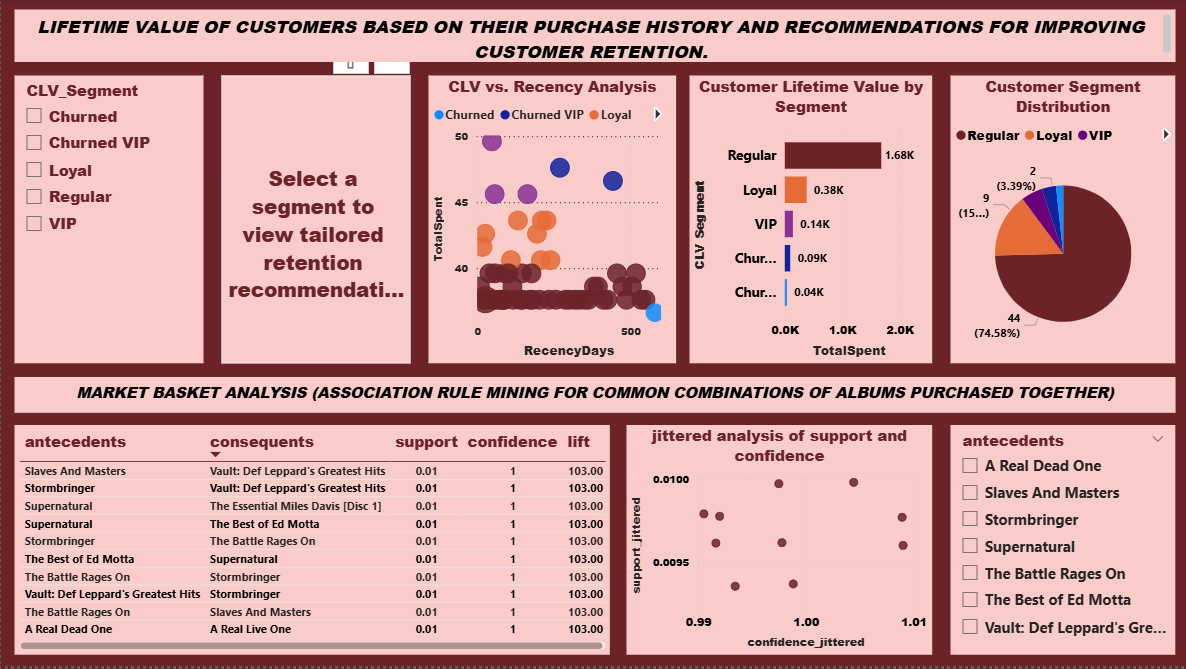

The page's visual inventory and layout, read from the dashboard file:
{"tool":"powerbi","page":{"name":"Page 3","canvas":[1280,720],"ordinal":2},"visuals":[{"type":"card","fields":{"Values":["customer_clv.RetentionRecommendation"]},"box":[238,82.6,204,310.9],"z":0},{"type":"clusteredBarChart","title":"Customer Lifetime Value by Segment","fields":{"Y":["Sum(customer_clv.TotalSpent)"],"Category":["customer_clv.CLV_Segment"]},"box":[743.2,82.6,262.3,310.9],"z":1000},{"type":"scatterChart","title":"CLV vs. Recency Analysis","fields":{"X":["customer_clv.RecencyDays"],"Series":["customer_clv.CLV_Segment"],"Size":["Sum(customer_clv.PurchaseCount)"],"Y":["customer_clv.TotalSpent"]},"box":[461.5,82.6,267.2,310.9],"z":2000},{"type":"pieChart","title":"Customer Segment Distribution","fields":{"Category":["customer_clv.CLV_Segment"],"Y":["CountNonNull(customer_clv.CustomerId)"]},"box":[1025,82.6,242.9,310.9],"z":3000},{"type":"slicer","fields":{"Values":["customer_clv.CLV_Segment"]},"box":[14.6,82.6,204,310.9],"z":4000},{"type":"tableEx","fields":{"Values":["top_10_rules_by_lift.antecedents","top_10_rules_by_lift.consequents","top_10_rules_by_lift.support","top_10_rules_by_lift.confidence","top_10_rules_by_lift.lift"]},"box":[14.6,459.9,642.8,247.7],"z":5000},{"type":"scatterChart","title":"jittered analysis of support and confidence","fields":{"Y":["top_10_rules_by_lift.support_jittered"],"X":["top_10_rules_by_lift.confidence_jittered"]},"box":[675.2,459.9,330.3,247.7],"z":6000},{"type":"slicer","fields":{"Values":["top_10_rules_by_lift.antecedents"]},"box":[1025,459.9,242.9,247.7],"z":7000},{"type":"textbox","box":[14.6,11.3,1253.3,56.7],"z":8000},{"type":"textbox","box":[14.6,408,1253.3,38.9],"z":9000}]}

Visuals, with their boxes in screenshot pixels (x1, y1, x2, y2), scaled from the page's 1280x720 canvas onto the 1186x669 screenshot:
card - customer_clv.RetentionRecommendation: 221,77,410,366
"Customer Lifetime Value by Segment" clusteredBarChart: 689,77,932,366
"CLV vs. Recency Analysis" scatterChart: 428,77,675,366
"Customer Segment Distribution" pieChart: 950,77,1175,366
slicer - customer_clv.CLV_Segment: 14,77,203,366
tableEx - top_10_rules_by_lift.antecedents x top_10_rules_by_lift.consequents: 14,427,609,657
"jittered analysis of support and confidence" scatterChart: 626,427,932,657
slicer - top_10_rules_by_lift.antecedents: 950,427,1175,657
textbox: 14,10,1175,63
textbox: 14,379,1175,415
